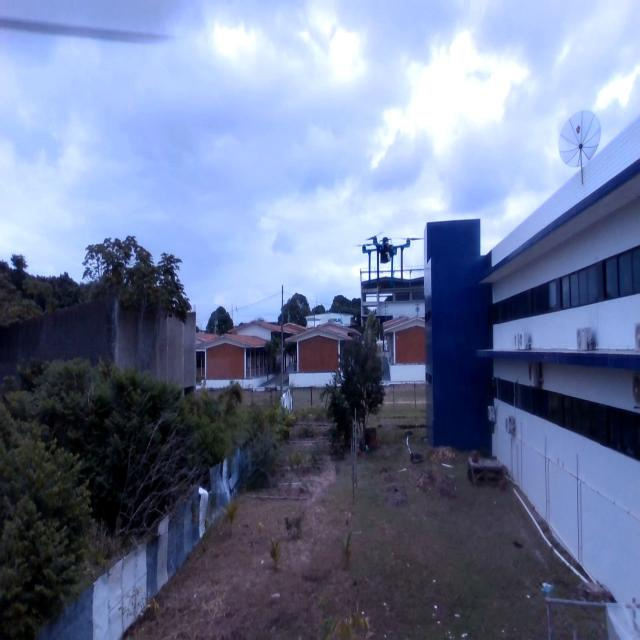-uav-: (345, 215, 432, 293)
